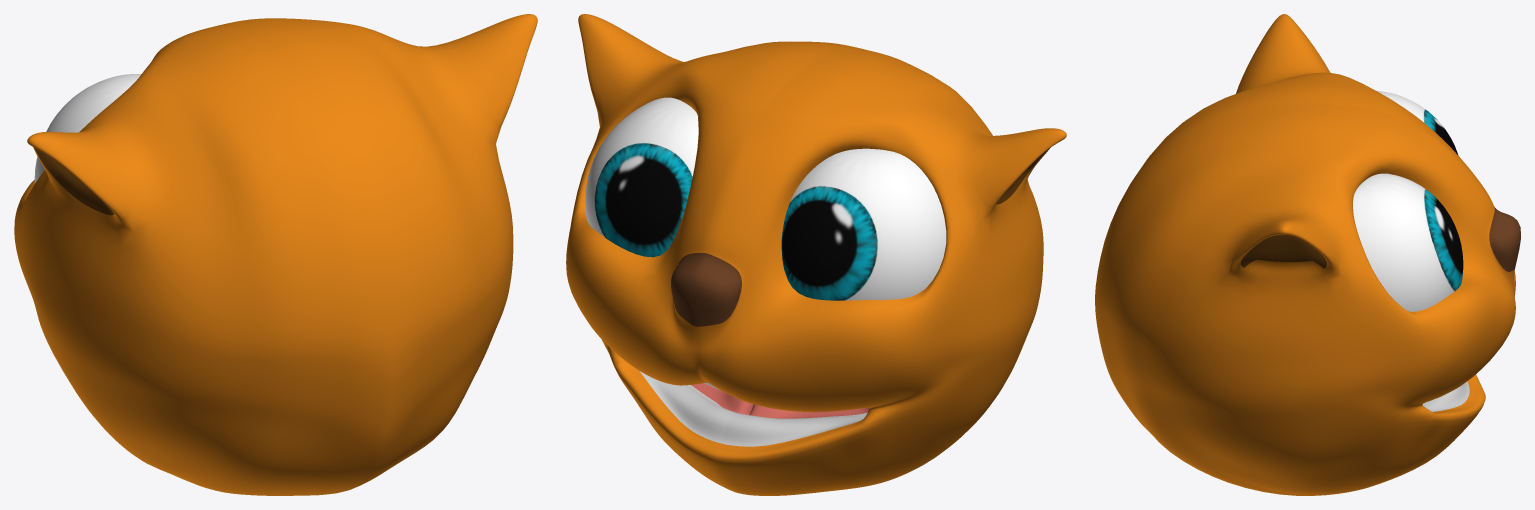
File: ball_monster.fbx
3 renders of one model, left to right at view 1: azimuth 30°, elevation 25°; view 2: azimuth 150°, elevation 25°; view 3: azimuth 270°, elevation 25°, orthographic. The views are drawn at different scales.
Parts seen in each view (by area): view 1: Cube; view 2: Cube; view 3: Cube.
Part boxes in pixels (x1,y1,x2,y2): Cube: (14,14,537,495); Cube: (566,14,1066,495); Cube: (1095,14,1520,495).
Bounding box in the file's own units: 3.87 × 3.14 × 3.22.
